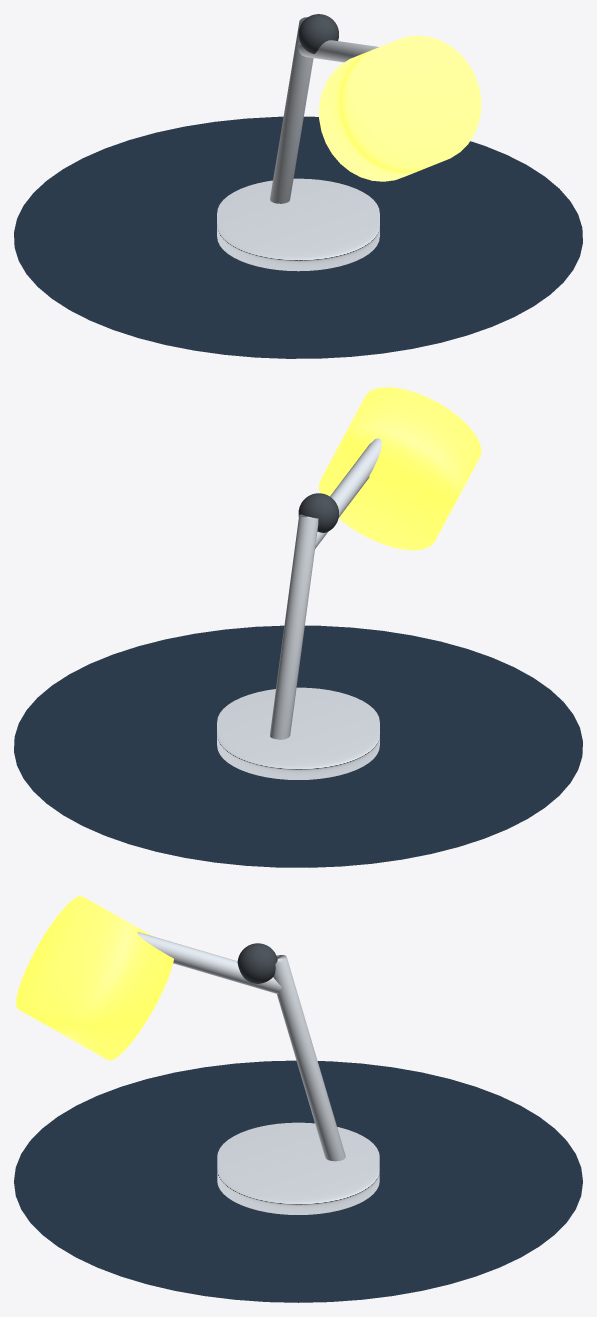
File: lamp.glb
3 views of the same model, one above another, from view 1: azimuth 30°, elevation 25°; view 2: azimuth 150°, elevation 25°; view 3: azimuth 270°, elevation 25° (orthographic).
Parts seen in each view (by area): view 1: lamp_contact_shadow, lamp_head, lamp_base, lamp_lower_arm, lamp_joint, lamp_upper_arm; view 2: lamp_contact_shadow, lamp_head, lamp_base, lamp_lower_arm, lamp_upper_arm, lamp_joint; view 3: lamp_contact_shadow, lamp_head, lamp_base, lamp_lower_arm, lamp_upper_arm, lamp_joint.
Part boxes in pixels (left/top/right/bottom): lamp_contact_shadow: left=14, top=116, right=582, bottom=358; lamp_head: left=319, top=35, right=481, bottom=181; lamp_base: left=217, top=178, right=379, bottom=271; lamp_lower_arm: left=270, top=17, right=313, bottom=203; lamp_joint: left=298, top=14, right=338, bottom=53; lamp_upper_arm: left=298, top=40, right=378, bottom=62; lamp_contact_shadow: left=14, top=625, right=582, bottom=867; lamp_head: left=319, top=387, right=481, bottom=550; lamp_base: left=217, top=687, right=379, bottom=779; lamp_lower_arm: left=270, top=514, right=318, bottom=739; lamp_upper_arm: left=315, top=438, right=381, bottom=548; lamp_joint: left=298, top=493, right=338, bottom=532; lamp_contact_shadow: left=14, top=1060, right=582, bottom=1302; lamp_head: left=16, top=896, right=173, bottom=1060; lamp_base: left=217, top=1122, right=379, bottom=1214; lamp_lower_arm: left=273, top=955, right=345, bottom=1161; lamp_upper_arm: left=137, top=932, right=281, bottom=993; lamp_joint: left=237, top=943, right=277, bottom=983.
Size of the model in its own units: 1.4 by 0.7596 by 1.4.
